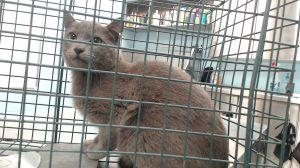rblue: (52, 8, 127, 78)
